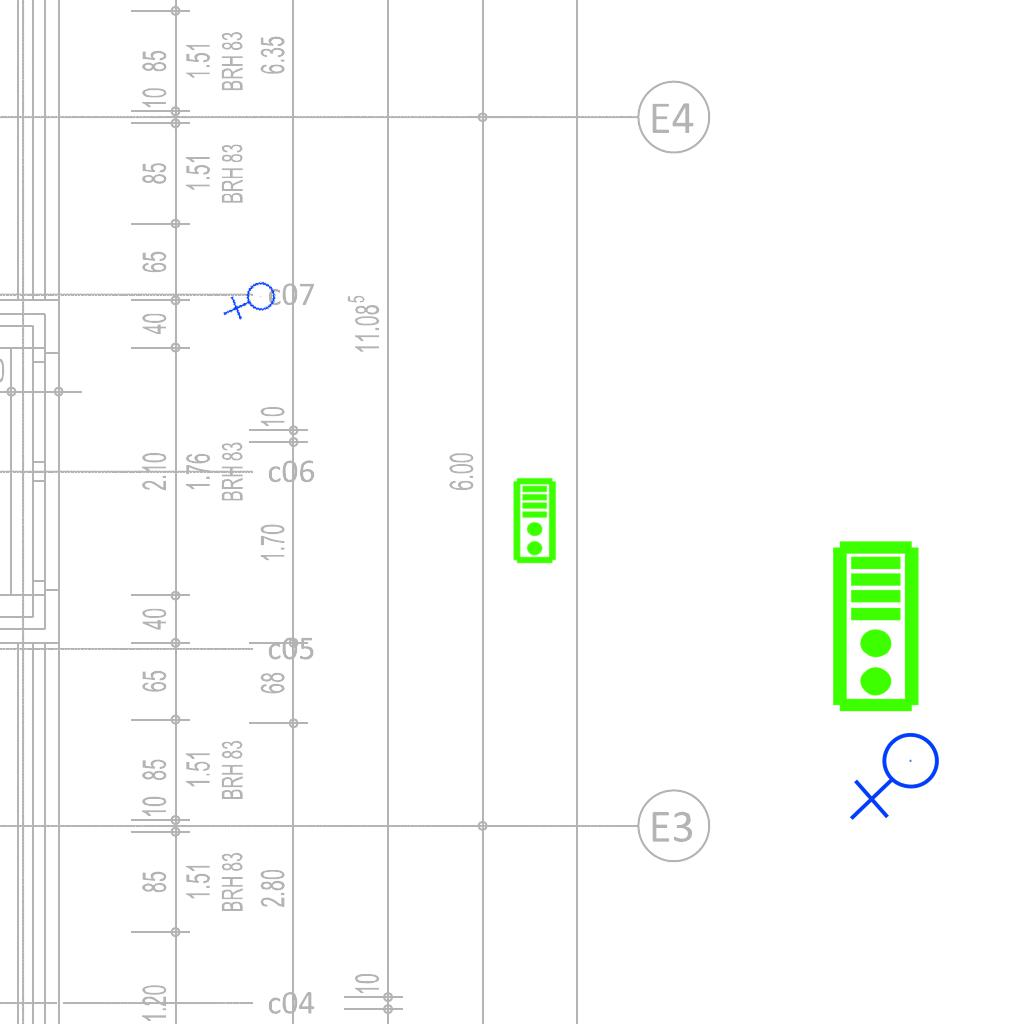Elektroanschluss_allgemein_230V_Geraeteanschlussdose_230V: (849, 731, 948, 825), (221, 272, 284, 333)
Gegensprechanlage_mit_Video: (830, 539, 925, 715), (512, 477, 559, 565)
